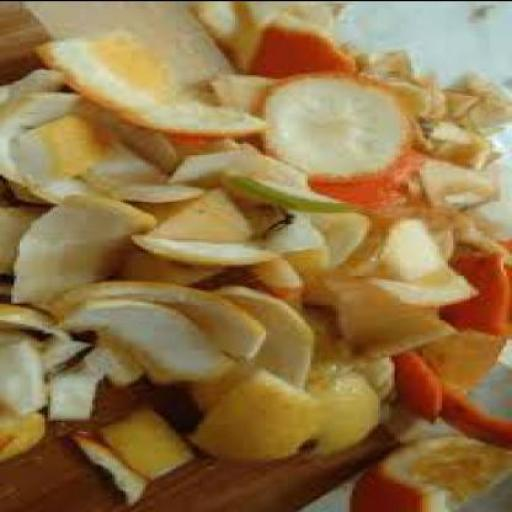biodegradable: (40, 33, 268, 139), (257, 74, 420, 184), (48, 286, 272, 360), (16, 194, 160, 308), (62, 304, 238, 386), (187, 369, 327, 464), (354, 432, 512, 511), (134, 238, 314, 300), (336, 274, 462, 362), (3, 93, 92, 204), (372, 221, 484, 309), (229, 157, 369, 213), (302, 368, 386, 458), (272, 208, 378, 271), (252, 18, 361, 78), (445, 241, 511, 340), (104, 412, 200, 480), (196, 2, 285, 71), (154, 187, 263, 241), (70, 432, 148, 507), (425, 332, 509, 393), (78, 138, 171, 192), (42, 115, 114, 178), (3, 334, 59, 414), (445, 386, 511, 448), (394, 350, 448, 424), (2, 206, 53, 284), (426, 160, 506, 209), (118, 253, 232, 287), (420, 122, 506, 167), (450, 75, 511, 134), (316, 177, 414, 211), (455, 208, 511, 262), (92, 338, 148, 389), (372, 74, 442, 113), (48, 369, 100, 421), (8, 67, 72, 108), (2, 412, 53, 463), (2, 306, 72, 341), (360, 50, 430, 84), (291, 2, 350, 37), (118, 182, 207, 204), (360, 356, 398, 398), (42, 340, 90, 373)
